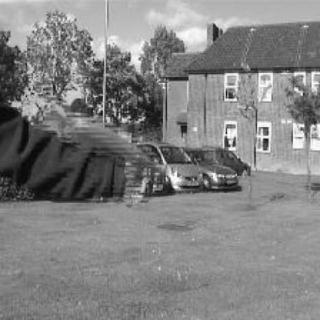other: (20, 88, 162, 174)
